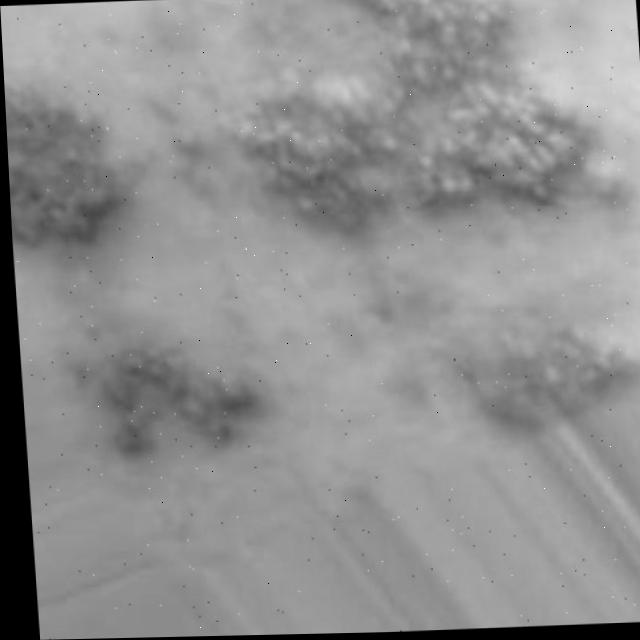Shingles: (216, 0, 639, 237), (70, 332, 277, 465), (4, 76, 158, 250), (459, 325, 640, 422)
